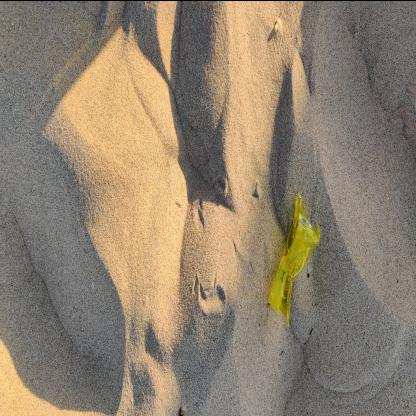plastik: (268, 193, 320, 325)
